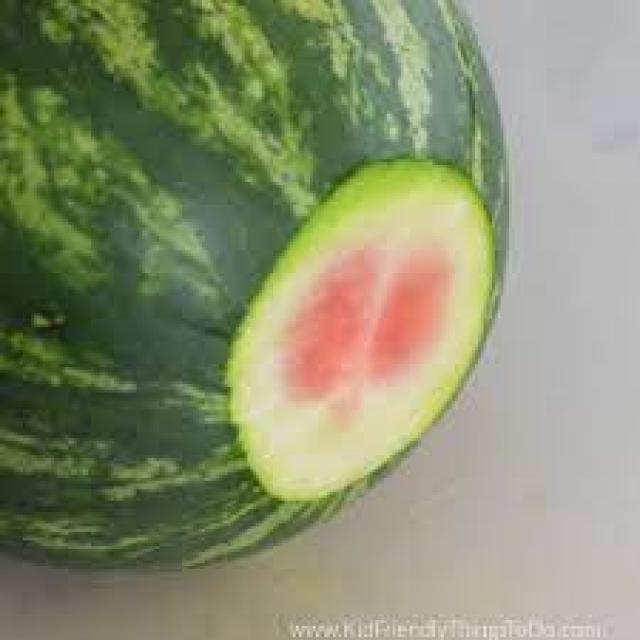watermelon: (0, 0, 509, 572)
